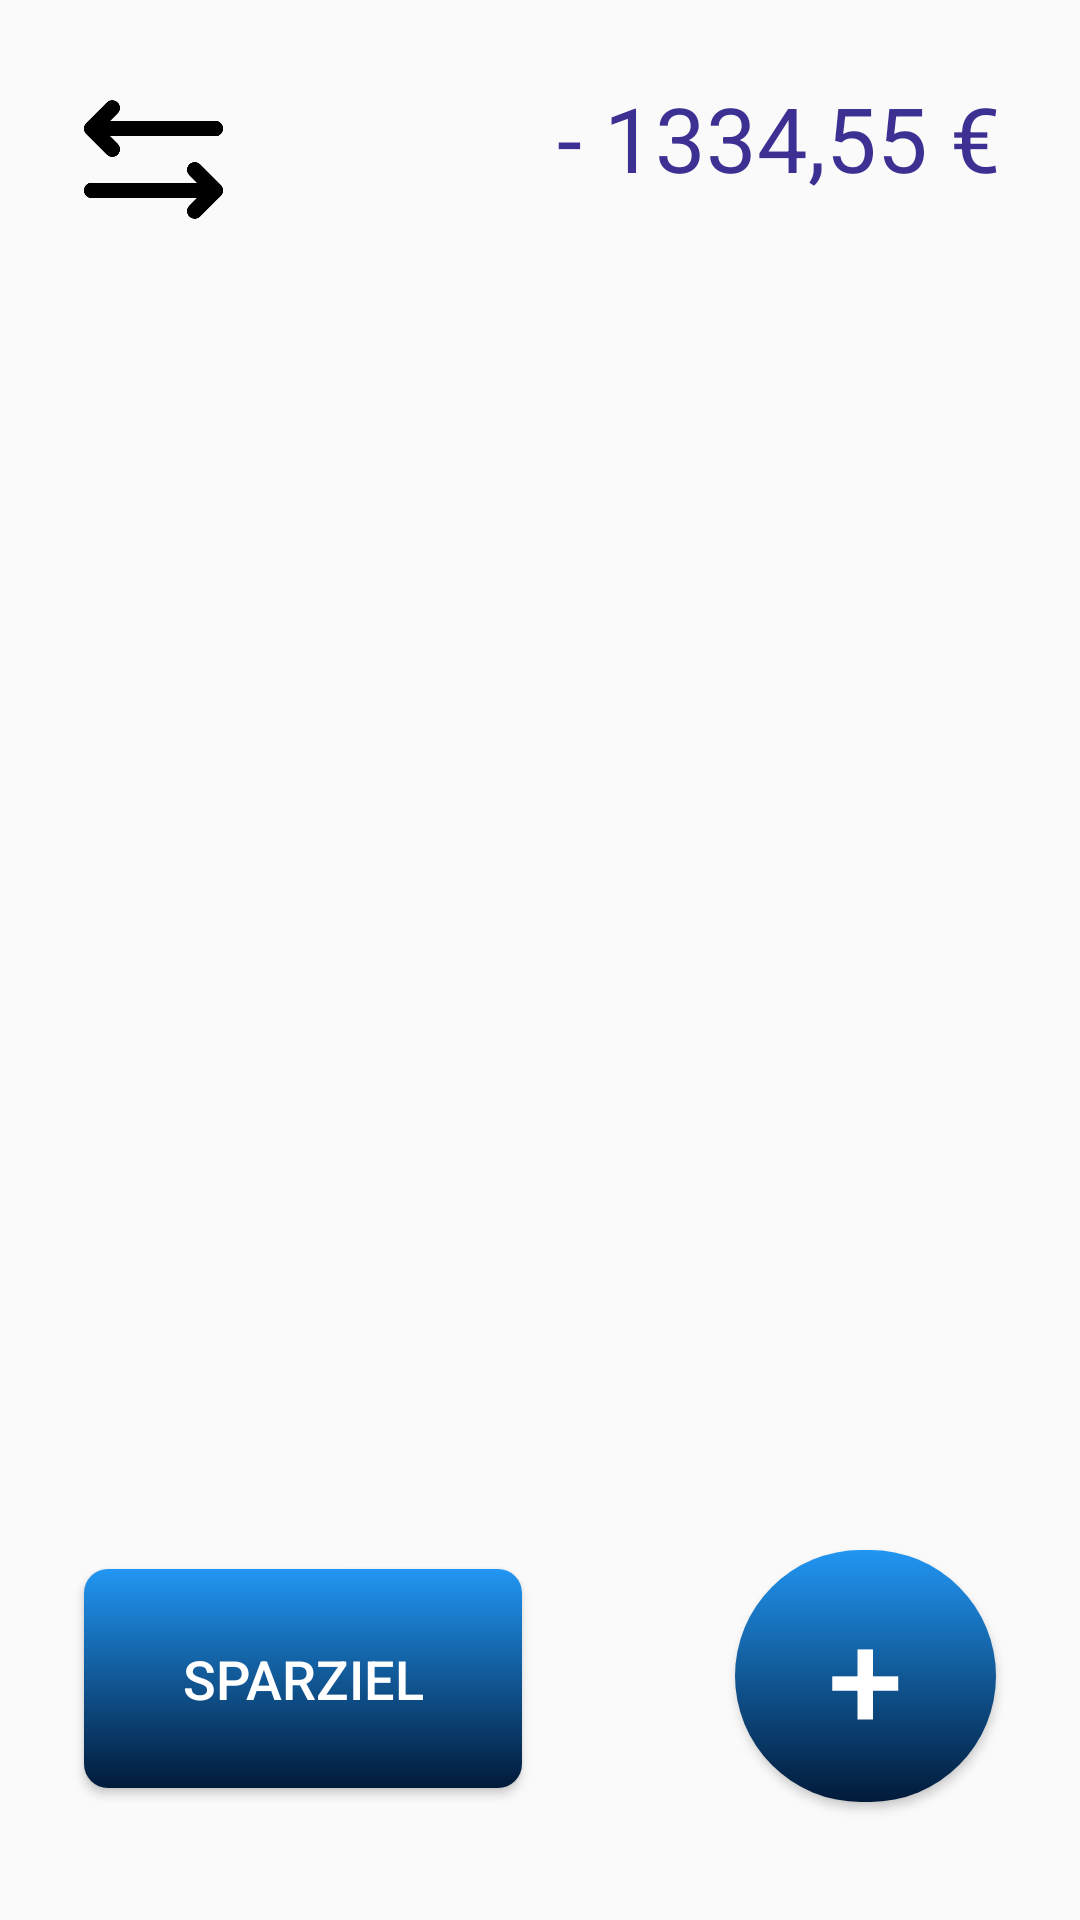

Icon click points for this 1080*1920 phone screenshot, format (x=x, y=y):
arrows left right: (x=153, y=159)
